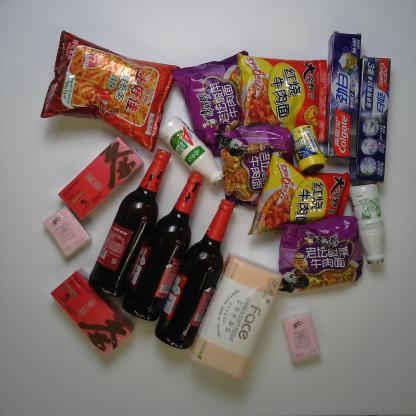Alcohol: (120, 168, 208, 322), (86, 143, 172, 299), (151, 196, 237, 352)
Gum: (287, 123, 327, 179)
Instant Drink: (55, 132, 146, 223), (47, 265, 136, 358)
Instant Noodles: (242, 151, 353, 238), (233, 50, 330, 145), (167, 48, 250, 158), (210, 122, 296, 210), (274, 213, 367, 294)
Milk: (157, 113, 228, 187), (344, 182, 391, 268)
Personal Hygiene: (317, 29, 364, 164), (347, 52, 394, 187)
Puffed Food: (38, 27, 182, 155)
Tissue: (188, 248, 285, 382), (39, 203, 93, 262), (279, 308, 324, 368)
